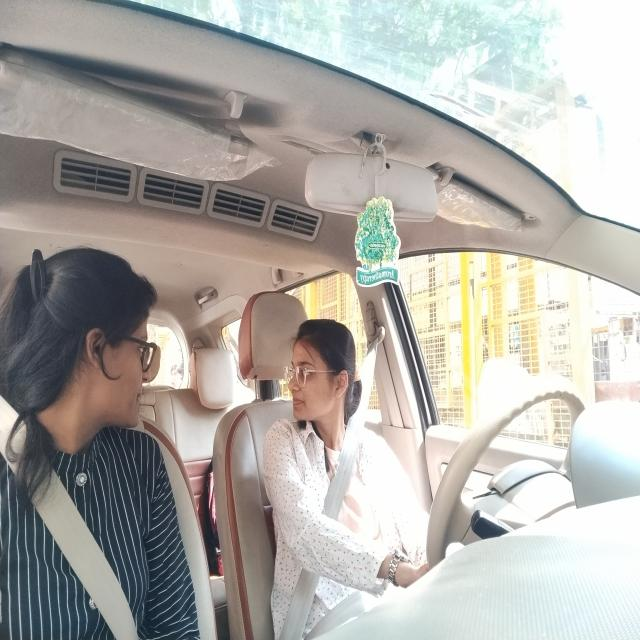LeftRight: (282, 324, 358, 426)
person: (0, 238, 162, 436)
